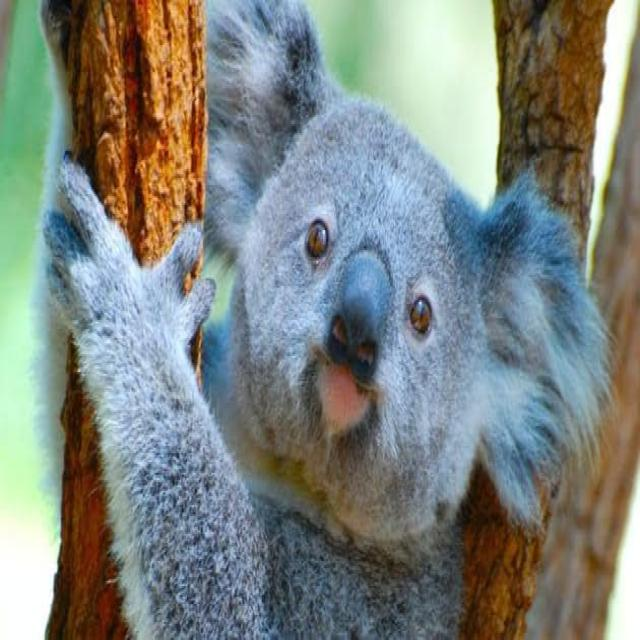Koala: (34, 7, 605, 635)
